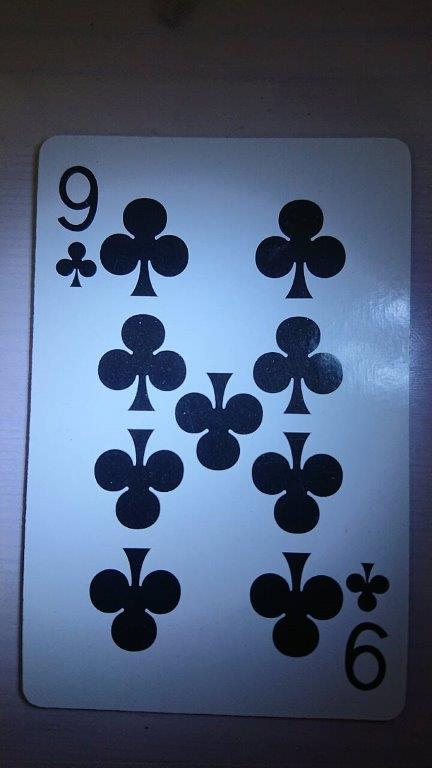9C: (18, 132, 415, 723)
